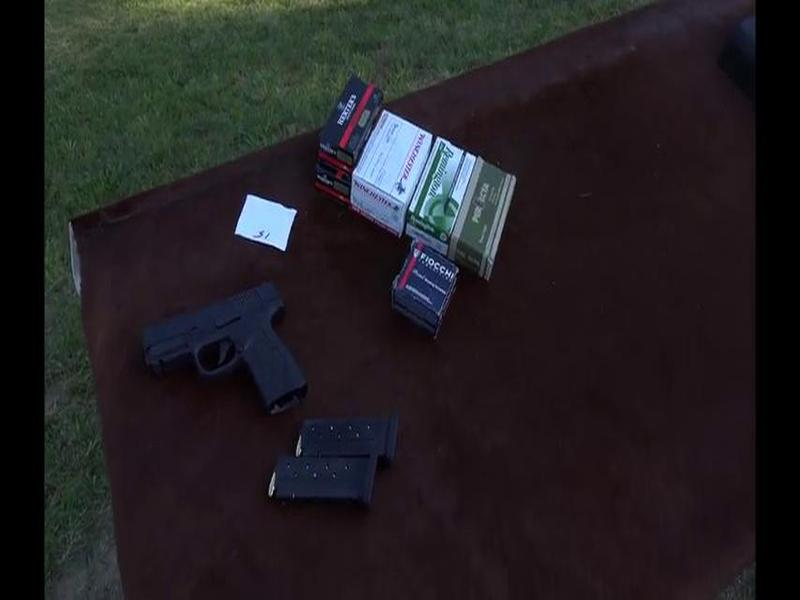Pistola: (124, 270, 319, 419)
